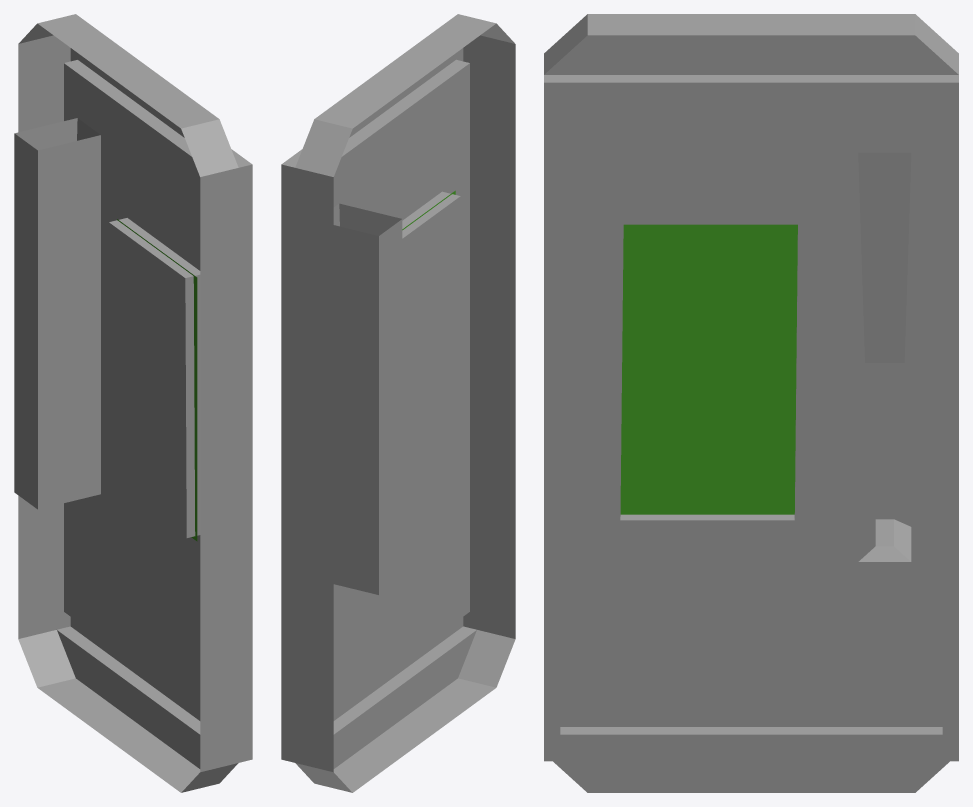
File: Lector_card.fbx
3 renders of one model, left to right at view 1: azimuth 30°, elevation 25°; view 2: azimuth 150°, elevation 25°; view 3: azimuth 270°, elevation 25°, orthographic. The views are drawn at different scales.
Parts seen in each view (by area): view 1: Scanner_card, Scanner_panel; view 2: Scanner_card; view 3: Scanner_card, Scanner_panel.
Boxes of the visible parts, <box> form: Scanner_card: <box>14,14,252,792</box>; Scanner_panel: <box>117,219,197,541</box>; Scanner_card: <box>281,14,515,792</box>; Scanner_card: <box>544,14,958,792</box>; Scanner_panel: <box>620,224,797,514</box>.
Size of the model in its own units: 24.41 by 201 by 100.
